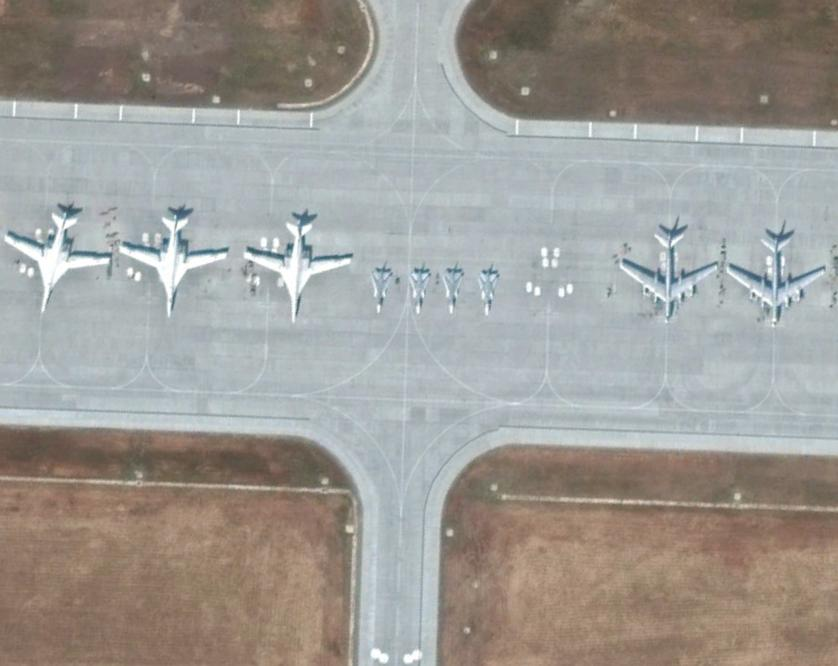A17: (613, 207, 724, 327), (721, 212, 832, 332)
A20: (432, 262, 470, 317), (468, 259, 500, 320), (404, 257, 432, 316), (367, 259, 395, 315)
A6: (240, 199, 353, 325), (118, 192, 230, 319), (1, 186, 113, 313)
